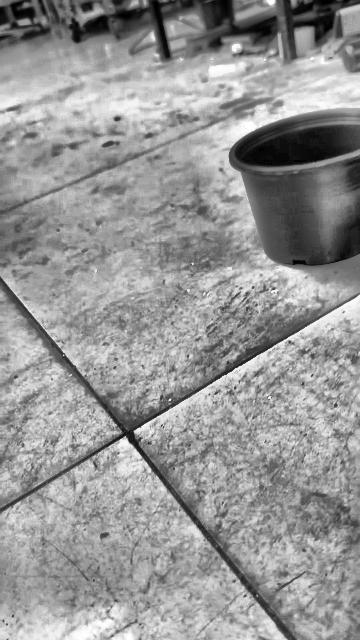pot: (229, 109, 360, 265)
